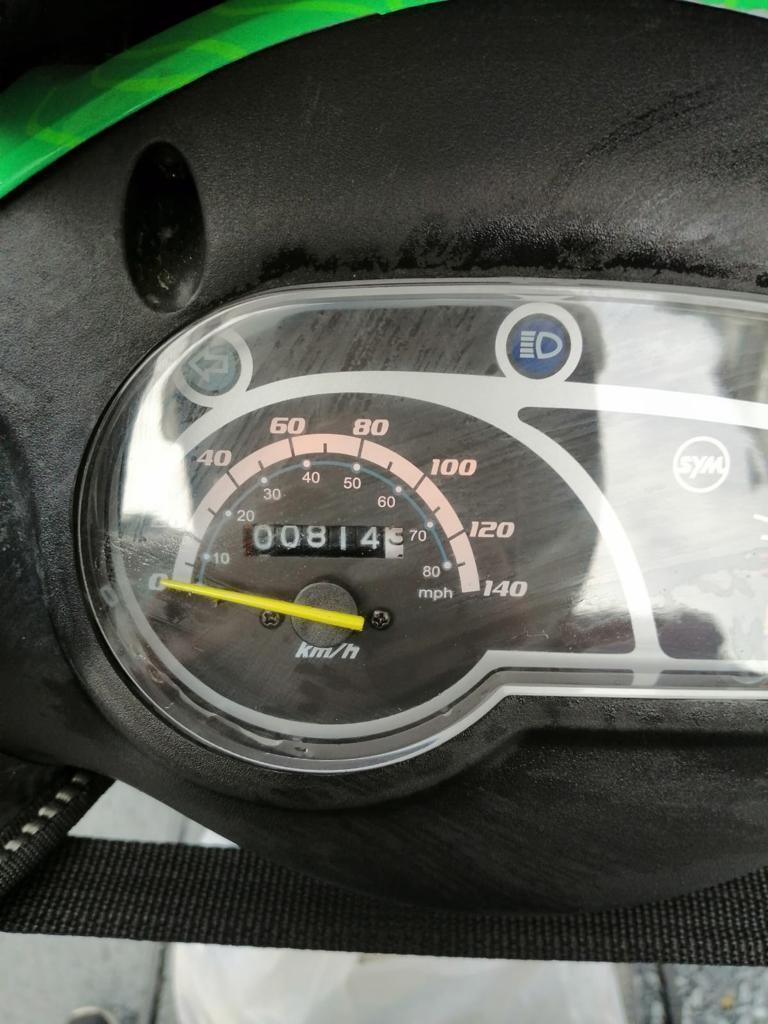0: (249, 523, 273, 553), (278, 524, 301, 551)
1: (336, 523, 350, 553)
3: (386, 524, 404, 548)
4: (358, 525, 380, 551)
8: (305, 523, 327, 550)
odometer: (240, 521, 406, 560)
